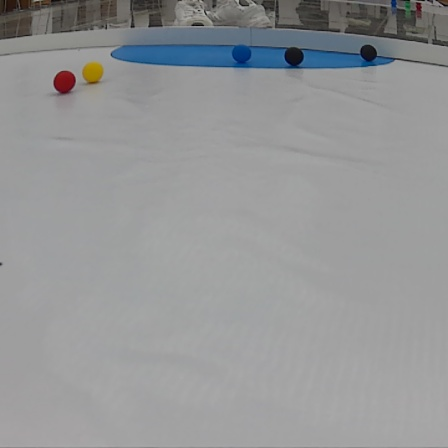black: (355, 41, 383, 64), (282, 47, 306, 67)
blue: (232, 43, 253, 64)
blue_base: (107, 42, 404, 70)
red: (51, 70, 76, 93)
yellow: (82, 61, 104, 84)
